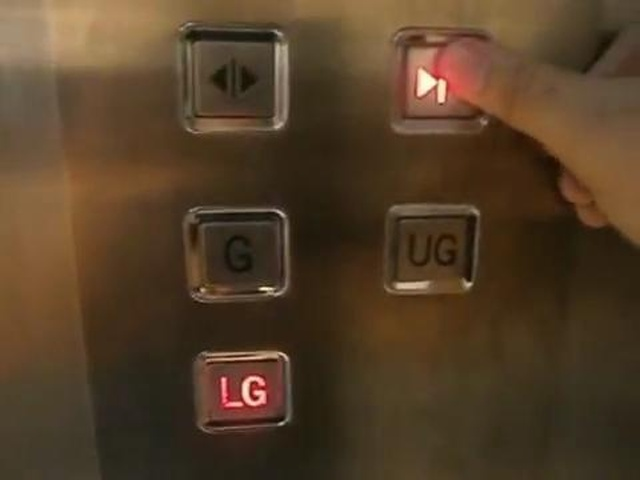G: (182, 206, 291, 303)
LG: (193, 350, 292, 433)
UG: (385, 204, 478, 296)
open: (177, 19, 289, 134)
